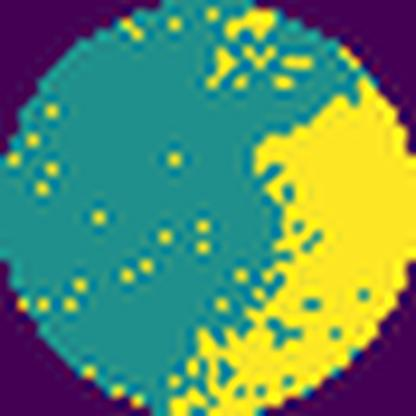Edge-Loc: (166, 81, 416, 415), (220, 11, 279, 42)
